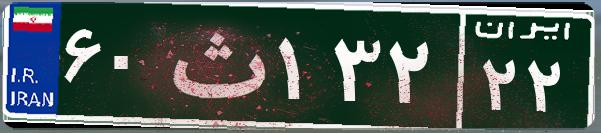0: (110, 28, 158, 105)
1: (273, 28, 330, 110)
2: (385, 28, 445, 110), (475, 38, 525, 113), (525, 38, 570, 115)
3: (330, 28, 385, 110)
6: (57, 26, 110, 107)
ث: (158, 15, 273, 115)
